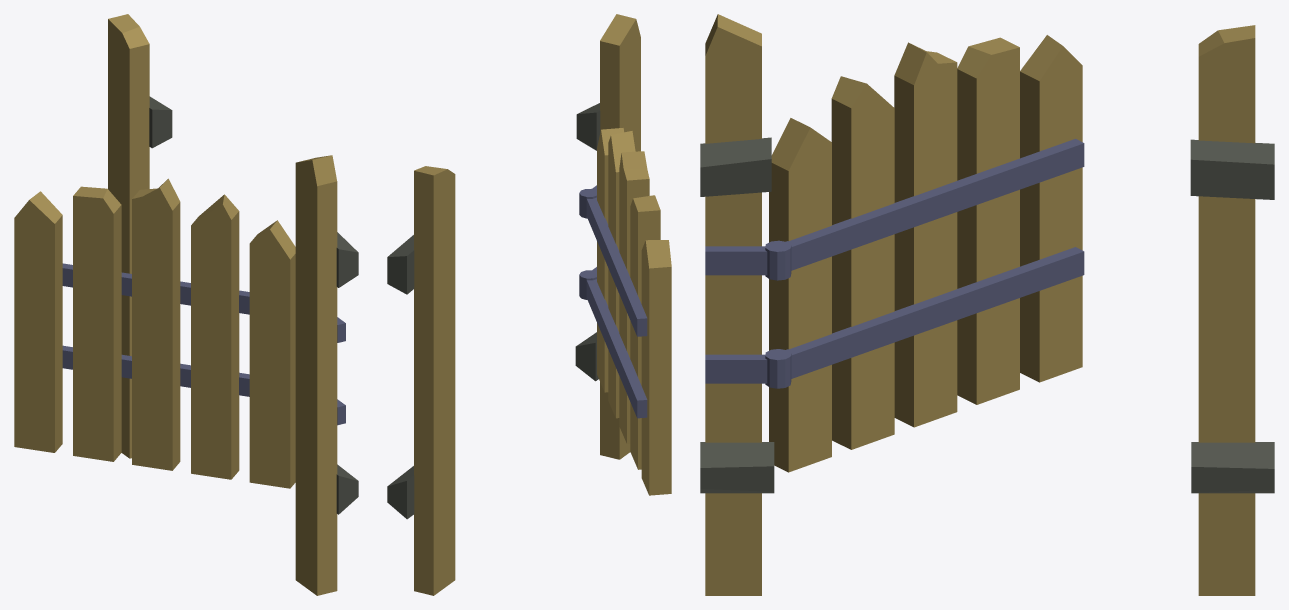
File: FenceDoor.fbx
3 views of the same model, side by side, from view 1: azimuth 30°, elevation 25°; view 2: azimuth 150°, elevation 25°; view 3: azimuth 270°, elevation 25° (orthographic). The views are drawn at different scales.
Parts seen in each view (by area): view 1: Cube.004, Cube.002, Cube.003, Cube.006; view 2: Cube.002, Cube.004, Cube.006, Cube.003, Cube.007; view 3: Cube.004, Cube.002, Cube.006, Cube.003, Cube.005, Cube.007.
Part boxes in pixels (bbox=[...]): Cube.004: bbox=[14, 178, 295, 488]; Cube.002: bbox=[108, 14, 337, 595]; Cube.003: bbox=[149, 96, 358, 514]; Cube.006: bbox=[62, 263, 249, 396]; Cube.002: bbox=[414, 14, 640, 595]; Cube.004: bbox=[597, 128, 671, 495]; Cube.006: bbox=[586, 197, 647, 418]; Cube.003: bbox=[387, 103, 600, 519]; Cube.007: bbox=[579, 188, 596, 299]; Cube.004: bbox=[769, 35, 1082, 472]; Cube.002: bbox=[705, 14, 1255, 595]; Cube.006: bbox=[786, 138, 1084, 378]; Cube.003: bbox=[700, 137, 1274, 493]; Cube.005: bbox=[705, 246, 767, 383]; Cube.007: bbox=[765, 240, 791, 388].
Bounding box in the file's own units: 109 × 219 × 200.
